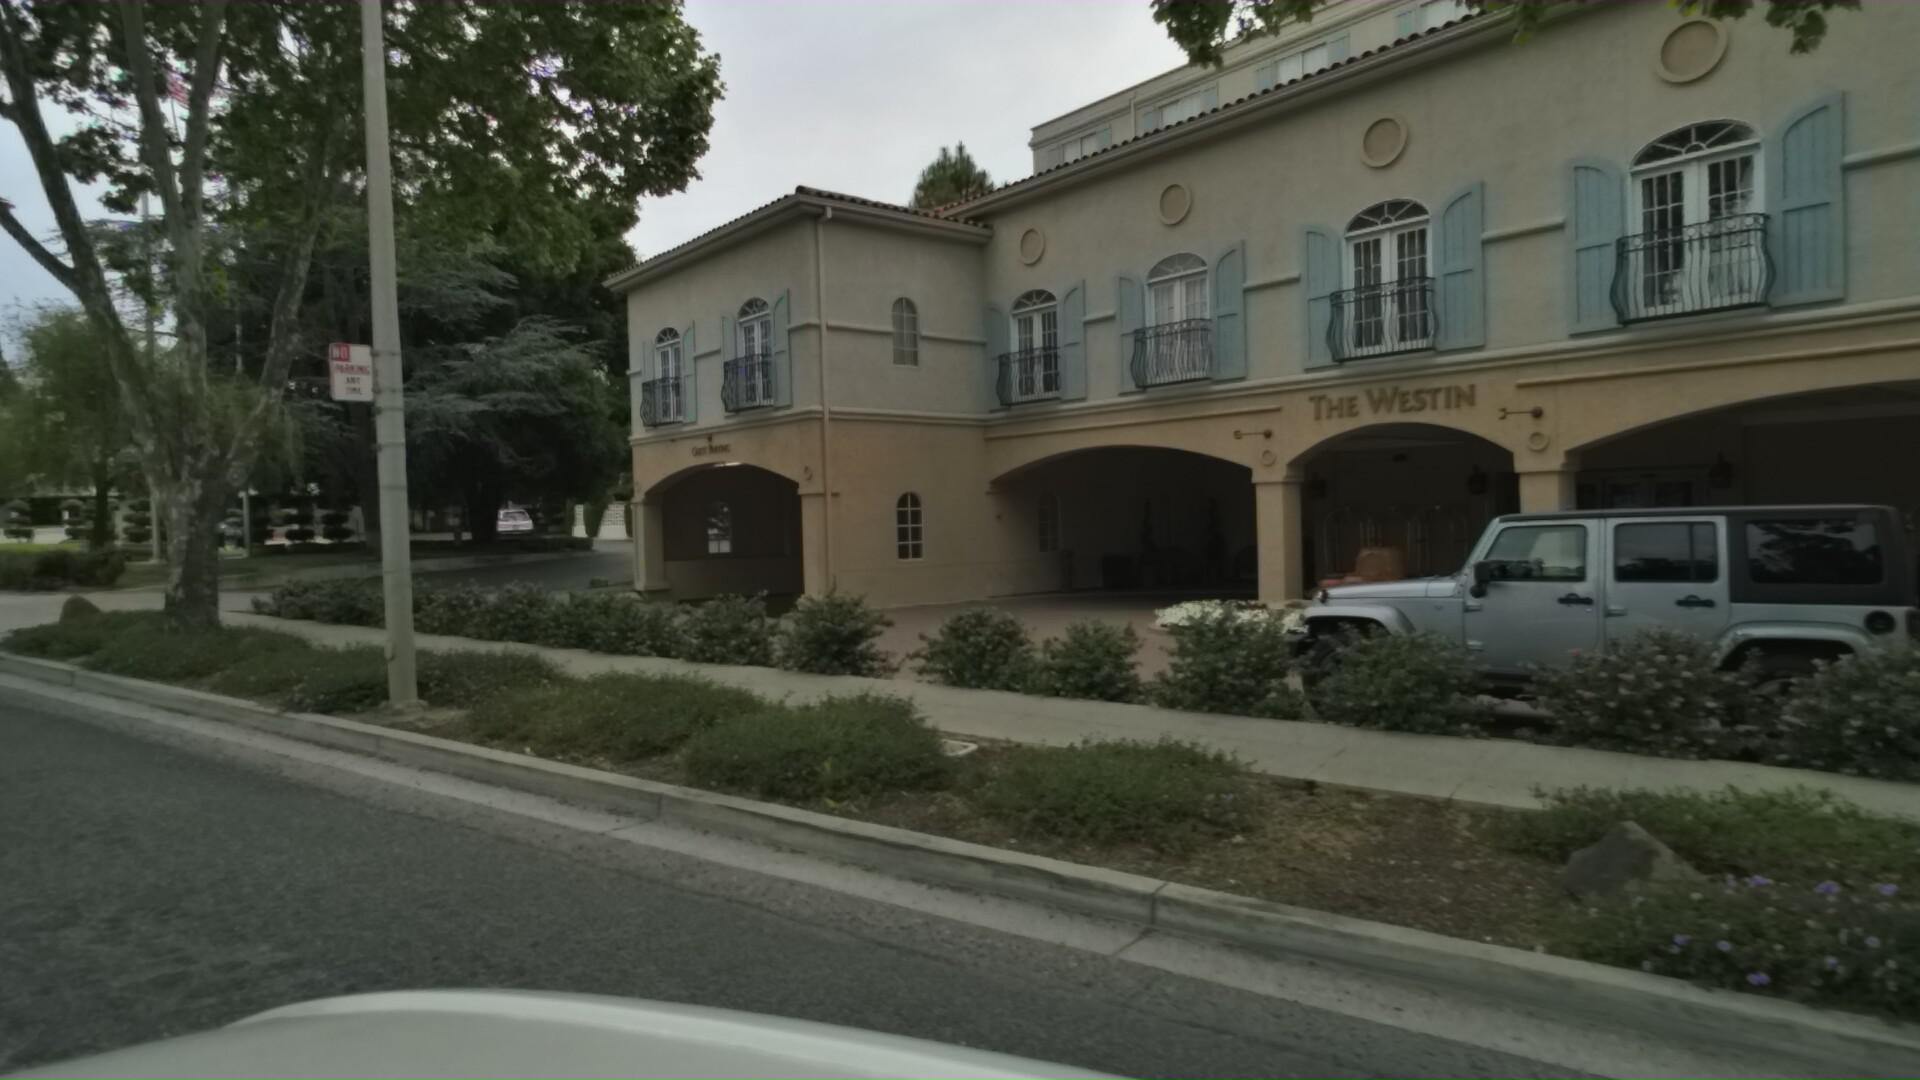car: (1282, 485, 1920, 828), (140, 506, 280, 546), (491, 498, 539, 535)
